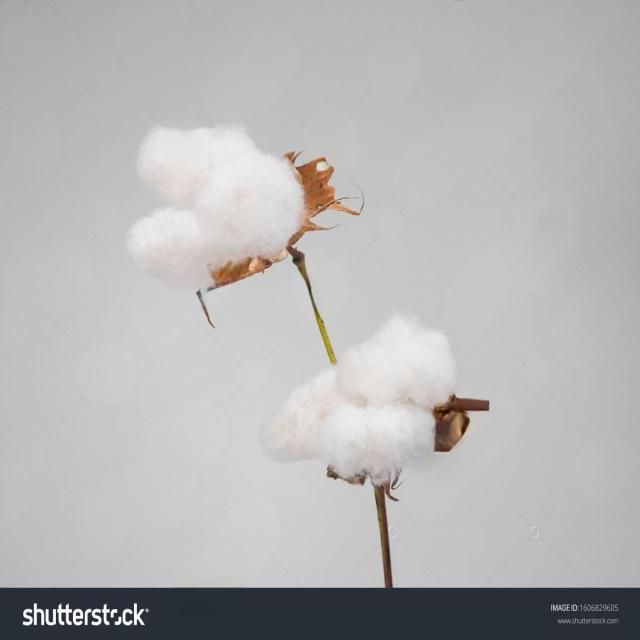Late_blight: (247, 296, 463, 501), (114, 118, 325, 288)
